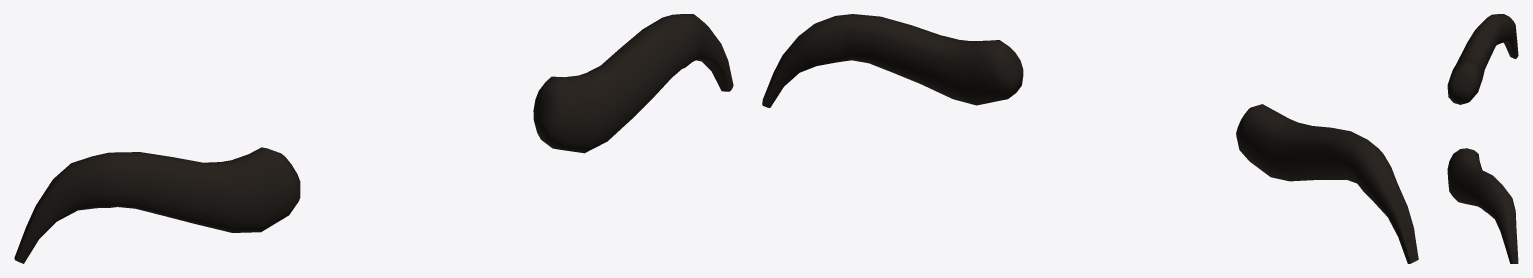
Rendered from Eyebrows_28_01.fbx.
3 renders of one model, left to right at view 1: azimuth 30°, elevation 25°; view 2: azimuth 150°, elevation 25°; view 3: azimuth 270°, elevation 25°, orthographic. The views are drawn at different scales.
Parts seen in each view (by area): view 1: Eyebrows_28_01; view 2: Eyebrows_28_01; view 3: Eyebrows_28_01.
Boxes of the visible parts, left/top/right/bottom form: Eyebrows_28_01: left=14, top=14, right=733, bottom=263; Eyebrows_28_01: left=762, top=14, right=1418, bottom=263; Eyebrows_28_01: left=1447, top=14, right=1518, bottom=263.
Bounding box in the file's own units: 18.81 × 2.62 × 2.68.
